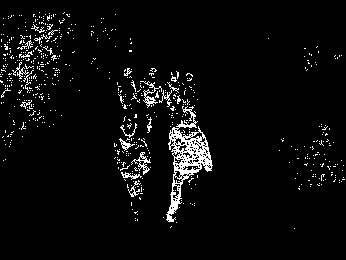person: (164, 109, 213, 222), (111, 120, 153, 224), (139, 66, 165, 133), (162, 70, 185, 131), (116, 67, 138, 121)
